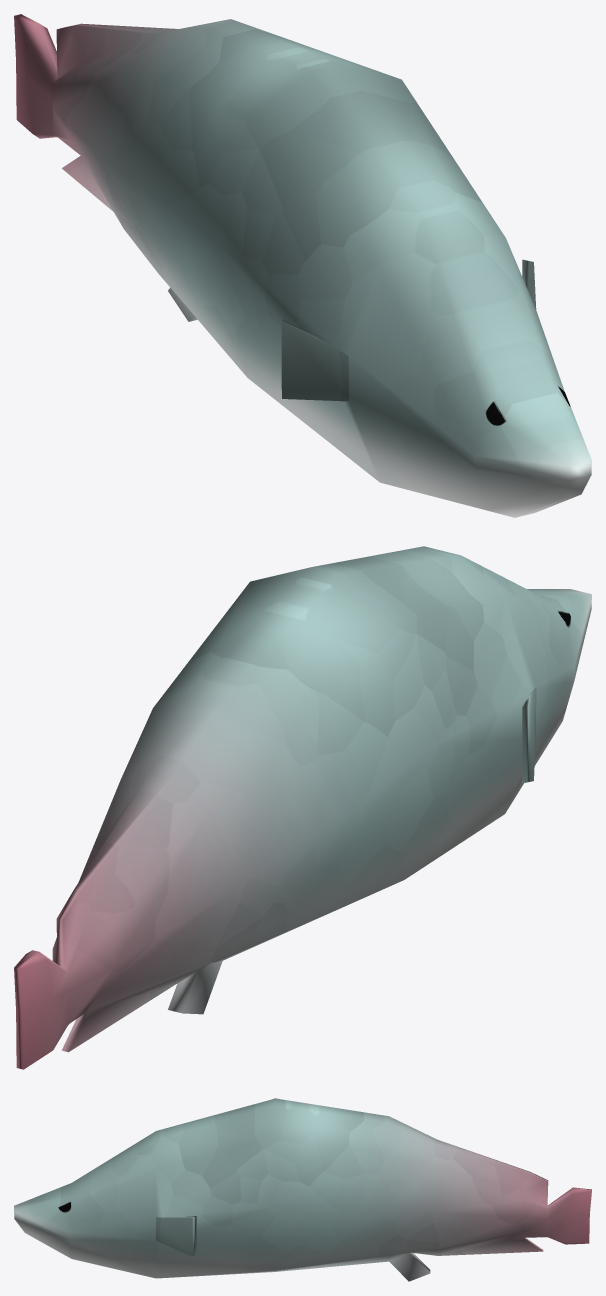
The model's file is pillarc_ani.fbx.
The picture shows the model from 3 angles, top to bottom: view 1: azimuth 30°, elevation 25°; view 2: azimuth 150°, elevation 25°; view 3: azimuth 270°, elevation 25°; orthographic projection. The views are drawn at different scales.
Visible parts, largest first — view 1: piraruku; view 2: piraruku; view 3: piraruku.
Boxes of the visible parts, x1,y1,x2,y2 form: piraruku: [14, 14, 591, 517]; piraruku: [14, 546, 591, 1069]; piraruku: [14, 1098, 591, 1281].
Size of the model in its own units: 2.03 by 2.67 by 7.86.
